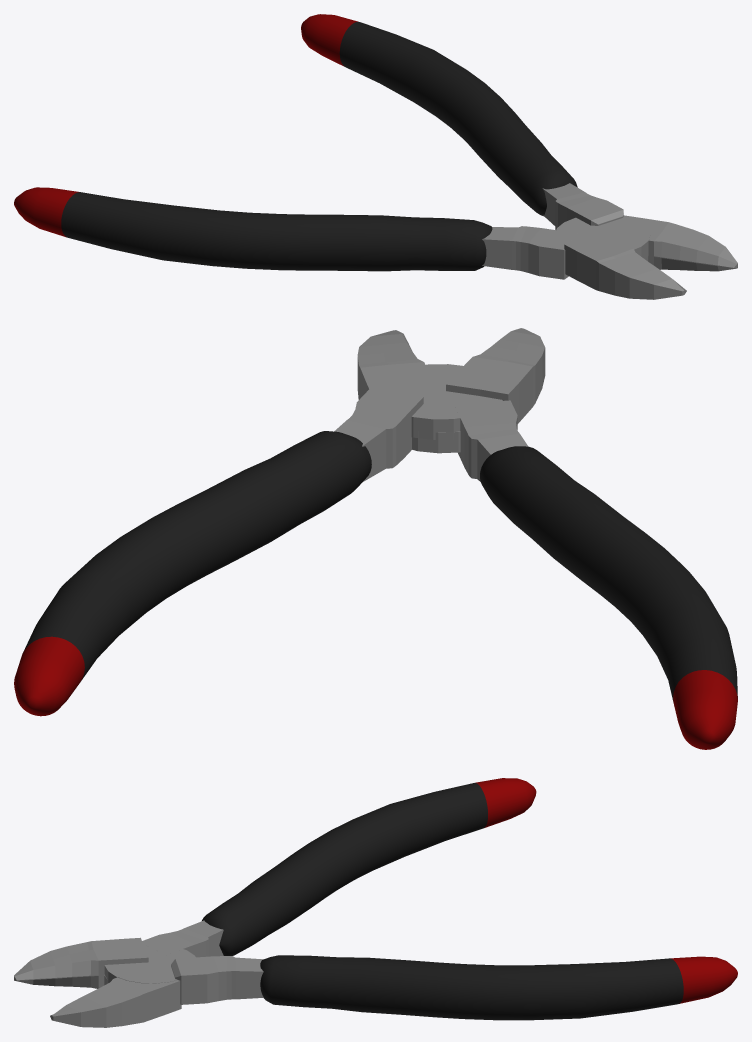
File: wirecutters.fbx
The picture shows the model from 3 angles, top to bottom: view 1: azimuth 30°, elevation 25°; view 2: azimuth 150°, elevation 25°; view 3: azimuth 270°, elevation 25°; orthographic projection. The views are drawn at different scales.
Parts seen in each view (by area): view 1: Cube.003, Cube.002; view 2: Cube.002, Cube.003; view 3: Cube.002, Cube.003.
Part boxes in pixels (<box>): Cube.003: <box>14,187,737,279</box>; Cube.002: <box>301,14,686,299</box>; Cube.002: <box>14,328,545,716</box>; Cube.003: <box>357,330,737,749</box>; Cube.002: <box>14,937,737,1020</box>; Cube.003: <box>50,778,536,1027</box>.
Bounding box in the file's own units: 694 × 76.97 × 920.
